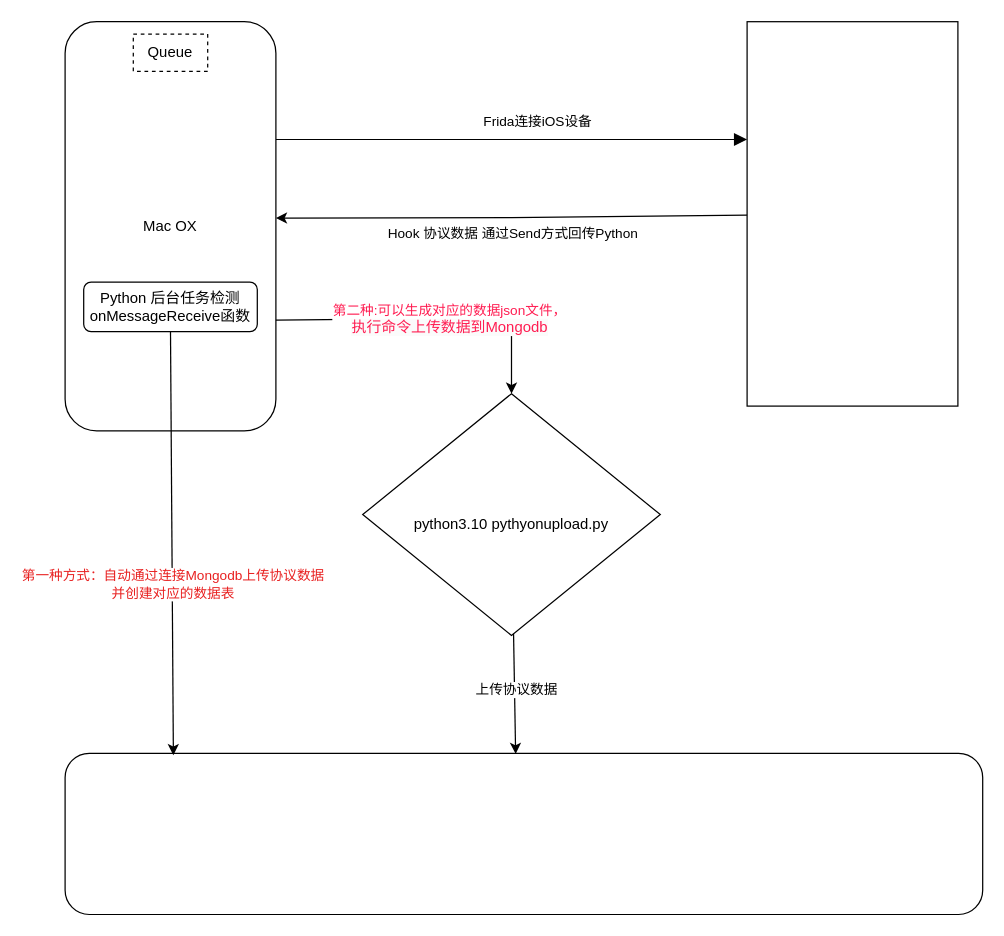
Some shapes in this 1004 by 936 pixel diagram are drawn without their labels. Here are the shapes that lost their labels. From the top down, the centre of each, then its label:
At pixel 852 213: "iOS设备 1. 开启好色先生App 2. 浏览固定页面，点击开始任务按钮 3. 自动滚动抓取".
At pixel 523 833: "Server + Mongdb".
